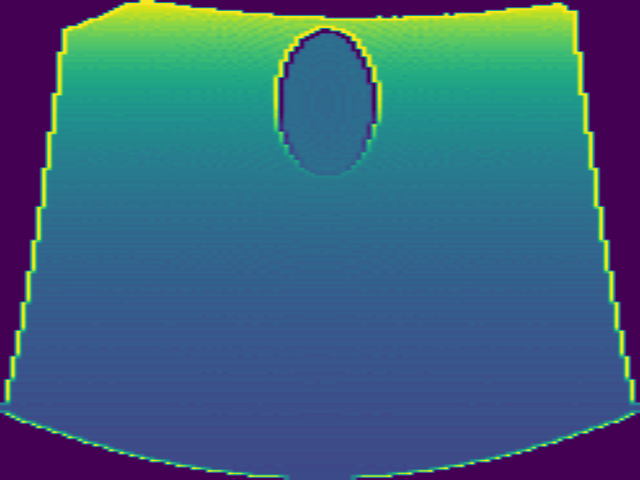sphere: (272, 26, 384, 179)
